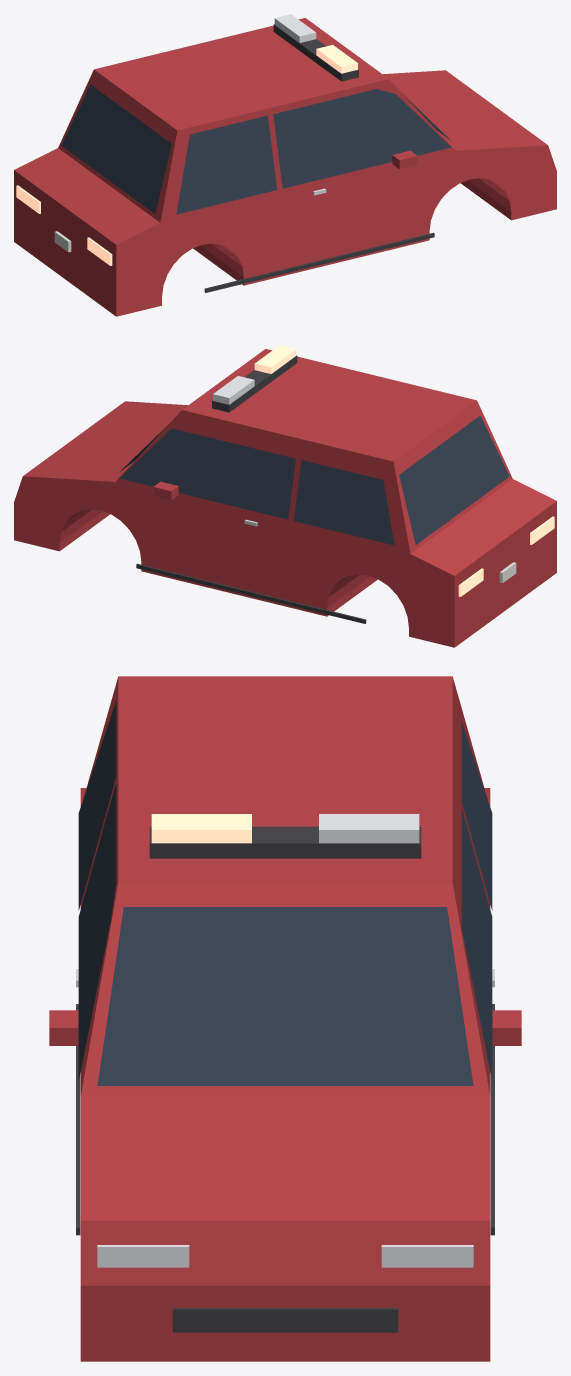
Rendered from SM_Veh_Tactical.fbx.
3 views of the same model, one above another, from view 1: azimuth 30°, elevation 25°; view 2: azimuth 150°, elevation 25°; view 3: azimuth 270°, elevation 25° (orthographic). The views are drawn at different scales.
Parts seen in each view (by area): view 1: SM_Veh_Tactical; view 2: SM_Veh_Tactical; view 3: SM_Veh_Tactical.
Part boxes in pixels (x1=…): SM_Veh_Tactical: x1=14, y1=14, x2=556, y2=316; SM_Veh_Tactical: x1=14, y1=345, x2=556, y2=647; SM_Veh_Tactical: x1=49, y1=676, x2=521, y2=1361.
Size of the model in its own units: 567 by 260 by 215.
